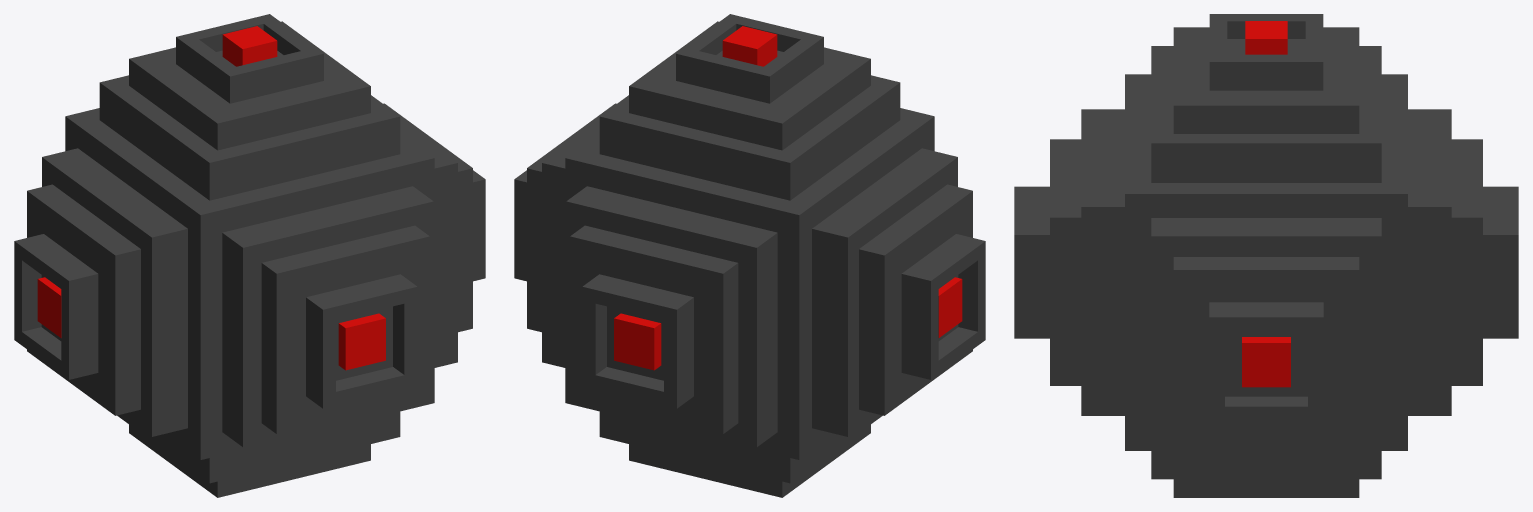
The model's file is regular.fbx.
3 views of the same model, side by side, from view 1: azimuth 30°, elevation 25°; view 2: azimuth 150°, elevation 25°; view 3: azimuth 270°, elevation 25° (orthographic). The views are drawn at different scales.
Visible parts, largest first — view 1: Regular; view 2: Regular; view 3: Regular.
Boxes of the visible parts, box(x1,y1,x2,y2) form: Regular: box(14, 14, 485, 497); Regular: box(514, 14, 985, 497); Regular: box(1014, 14, 1518, 497).
Size of the model in its own units: 371 by 348 by 371.
